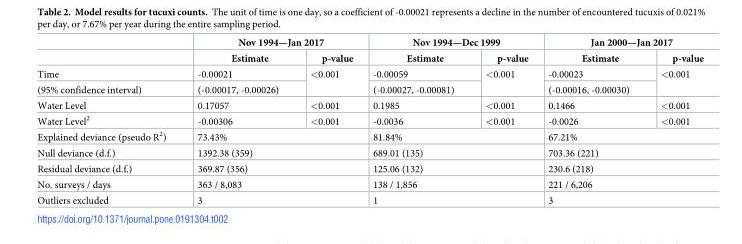table: (36, 37, 702, 205)
table column: (36, 37, 181, 205), (181, 37, 293, 205), (362, 37, 469, 205), (537, 37, 644, 205), (293, 37, 362, 205), (469, 37, 537, 205), (644, 37, 702, 205)
table column header: (36, 37, 702, 65)
table row: (36, 65, 702, 81), (36, 81, 702, 97), (36, 112, 702, 128), (36, 128, 702, 144), (36, 144, 702, 160), (36, 160, 702, 176), (36, 176, 702, 192), (36, 50, 702, 65), (36, 97, 702, 112), (36, 37, 702, 50), (36, 192, 702, 205)
table spanning cell: (181, 128, 362, 144), (181, 144, 362, 160), (181, 160, 362, 176), (181, 176, 362, 192), (362, 128, 537, 144), (362, 144, 537, 160), (362, 160, 537, 176), (362, 176, 537, 192), (537, 128, 702, 144), (537, 144, 702, 160), (537, 160, 702, 176), (537, 176, 702, 192), (181, 37, 362, 50), (181, 192, 362, 205), (362, 37, 537, 50), (362, 192, 537, 205), (293, 65, 362, 97), (469, 65, 537, 97), (537, 37, 702, 50), (537, 192, 702, 205), (644, 65, 702, 97)
